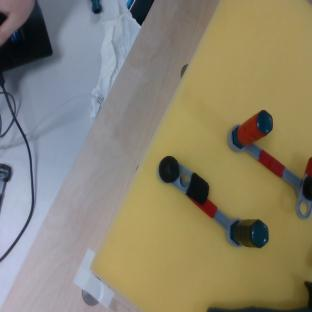non_pass: (146, 153, 275, 261)
